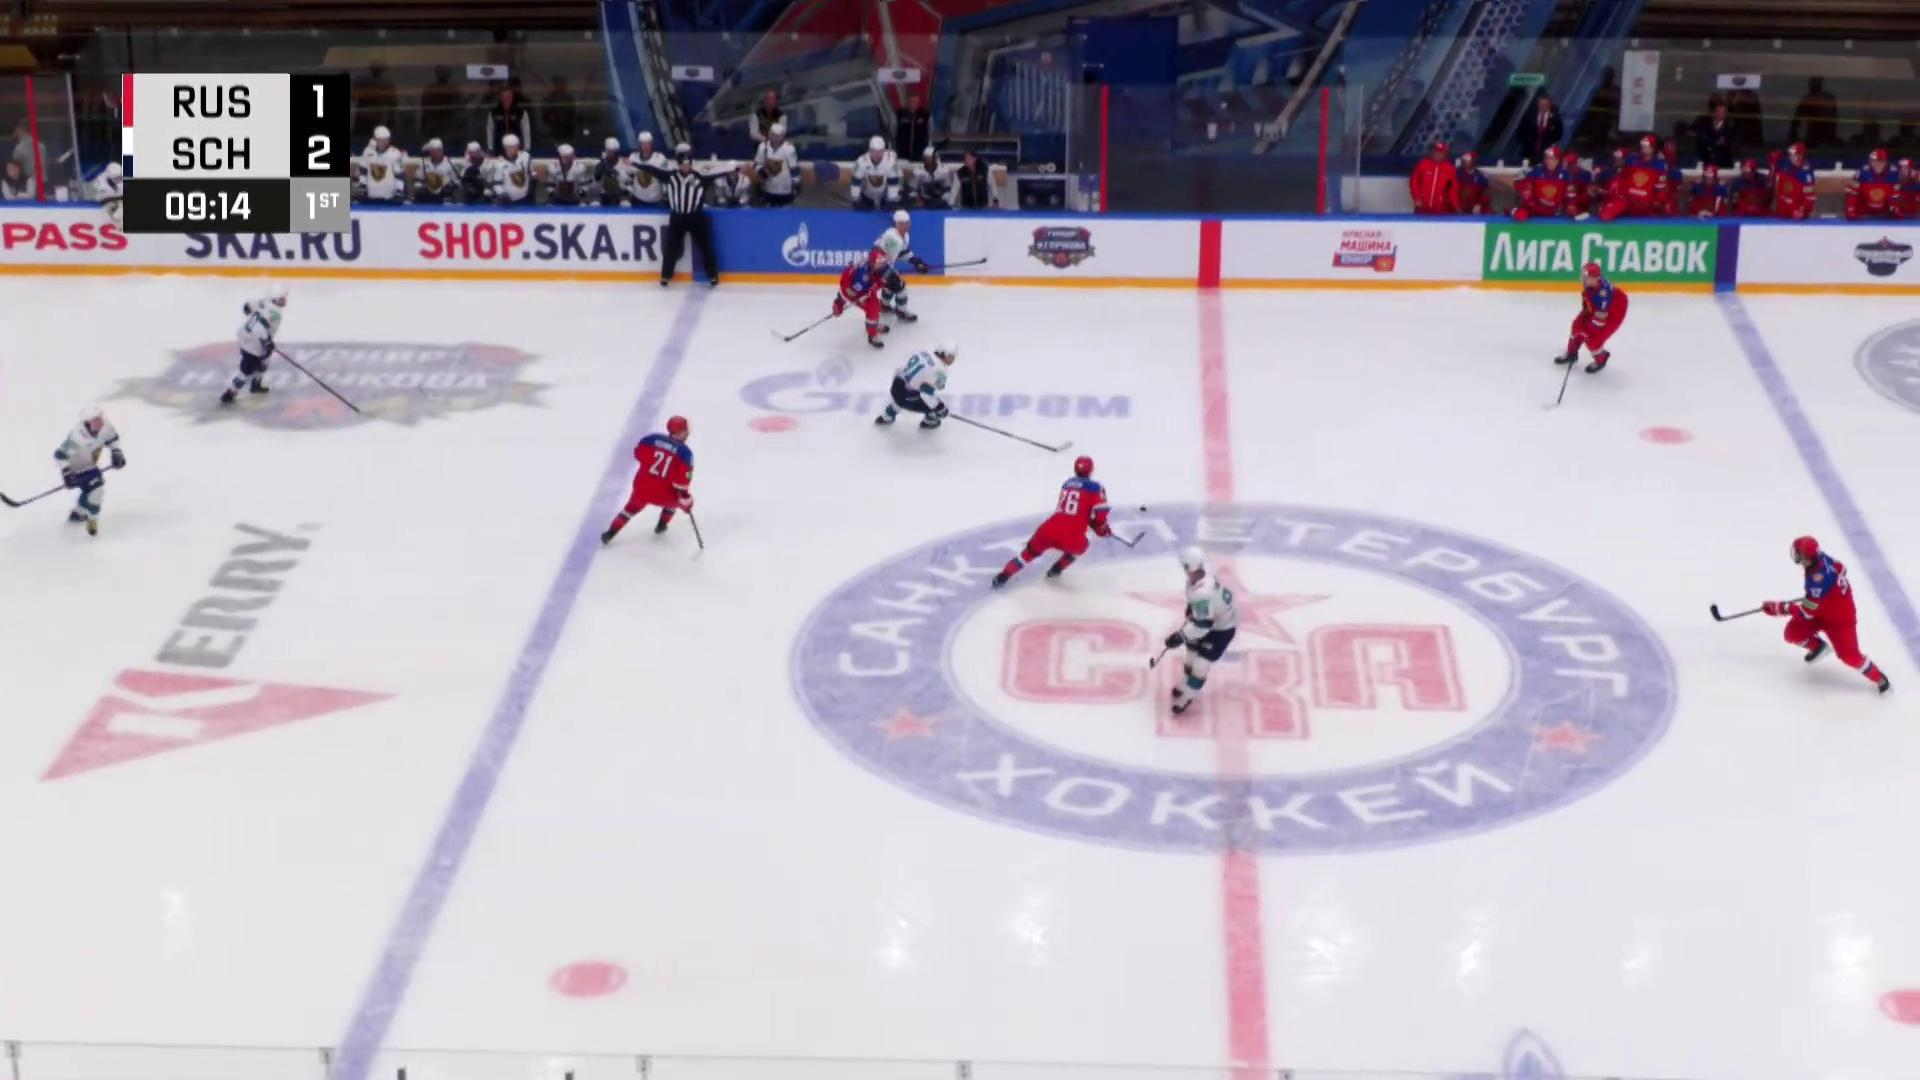ball: (1139, 506, 1147, 512)
